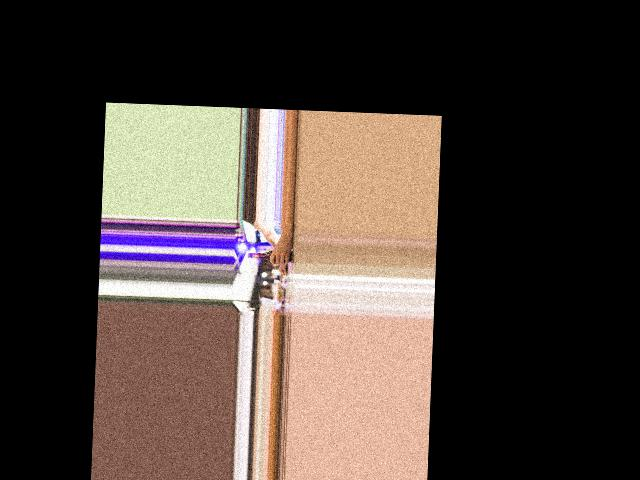beer: (248, 249, 291, 262)
